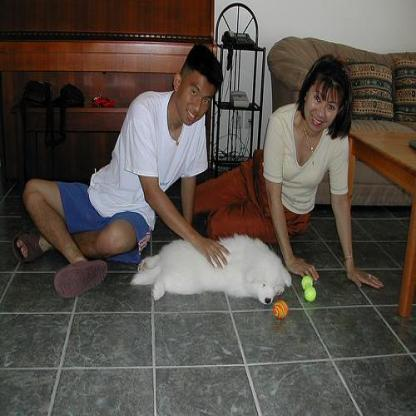Samoyed: (129, 232, 291, 305)
